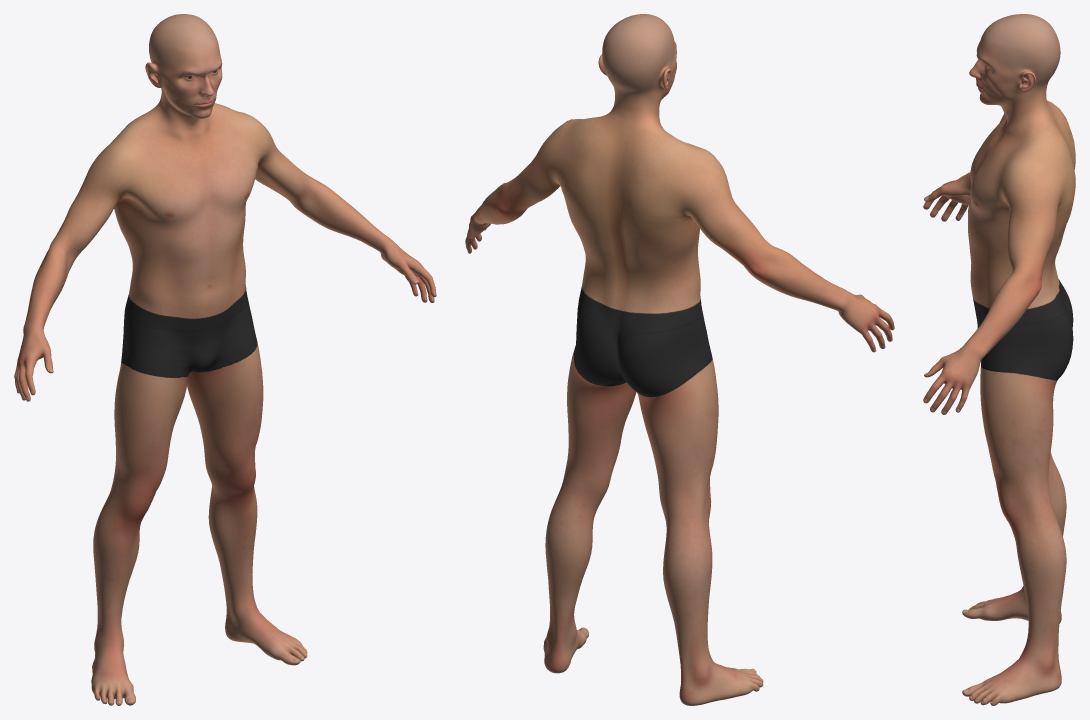
File: james.glb
The picture shows the model from 3 angles, left to right: view 1: azimuth 30°, elevation 25°; view 2: azimuth 150°, elevation 25°; view 3: azimuth 270°, elevation 25°; orthographic projection. The views are drawn at different scales.
Visible parts, largest first — view 1: HG_Body_0; view 2: HG_Body_0; view 3: HG_Body_0.
Part boxes in pixels (x1,y1,x2,y2): HG_Body_0: [14, 14, 436, 705]; HG_Body_0: [465, 14, 894, 705]; HG_Body_0: [923, 14, 1075, 705].
Size of the model in its own units: 1.16 by 1.75 by 0.3776.
Materials: 3 (3 with a texture image).
